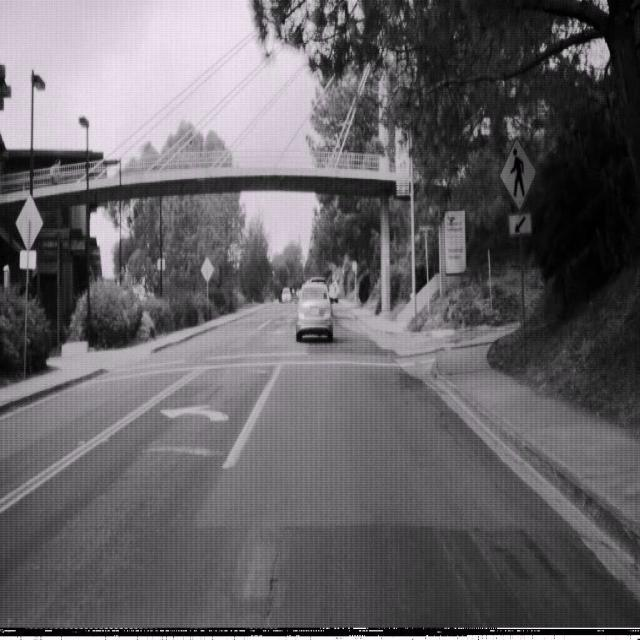pedestrianCrossing: (499, 135, 537, 211)
